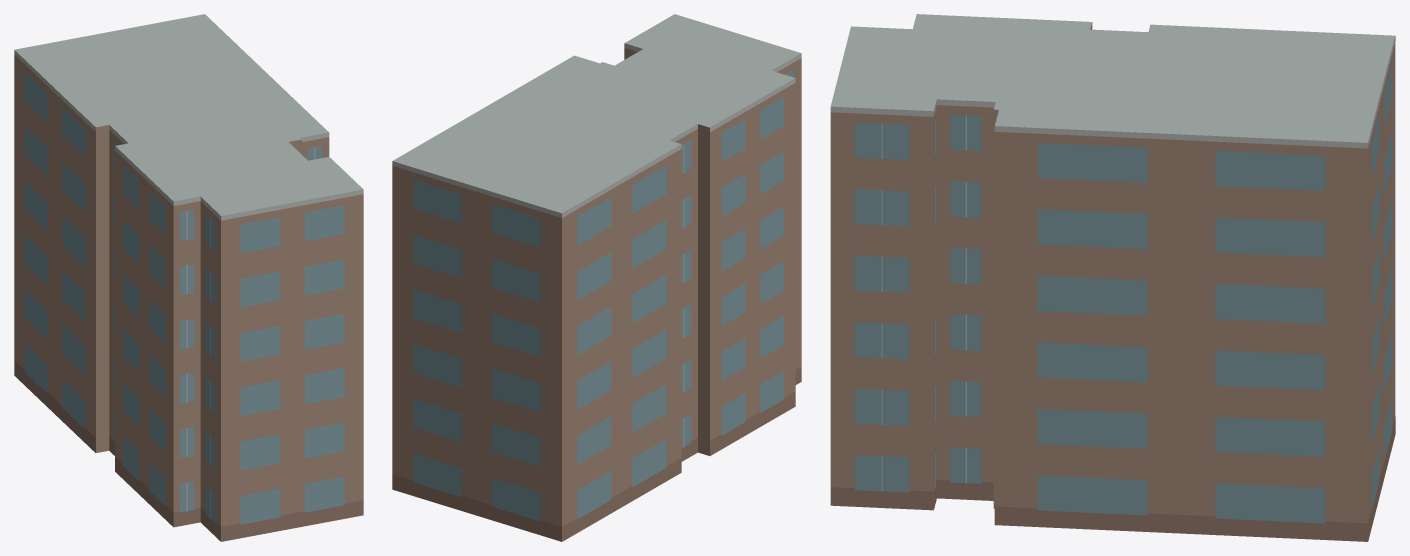
The model's file is survey-upis-32681493.glb.
3 views of the same model, side by side, from view 1: azimuth 30°, elevation 25°; view 2: azimuth 150°, elevation 25°; view 3: azimuth 270°, elevation 25° (orthographic). The views are drawn at different scales.
Visible parts, largest first — view 1: survey-upis-32681493.tmp; view 2: survey-upis-32681493.tmp; view 3: survey-upis-32681493.tmp.
Boxes of the visible parts, x1=… form: survey-upis-32681493.tmp: x1=14, y1=14, x2=363, y2=541; survey-upis-32681493.tmp: x1=392, y1=14, x2=801, y2=541; survey-upis-32681493.tmp: x1=830, y1=14, x2=1395, y2=541.
Bounding box in the file's own units: 11.86 × 17.1 × 21.95.
